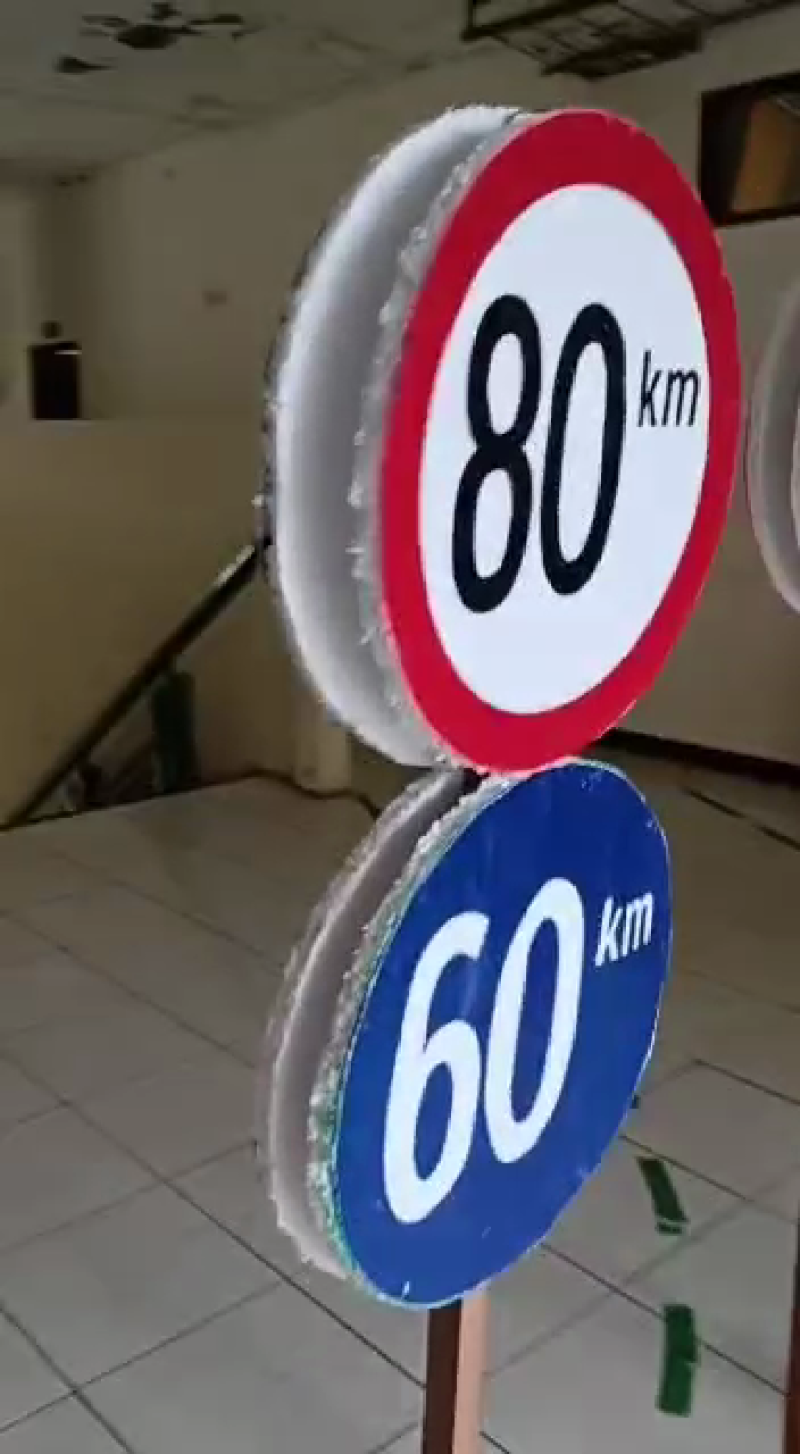batas maksimal 80kmperjam minimal 60kmperjam: (311, 92, 739, 1308)
